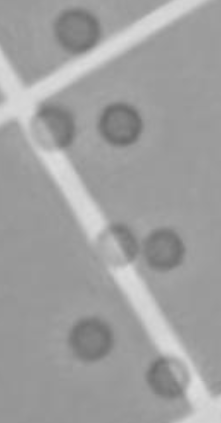cell: (87, 214, 141, 275), (89, 97, 148, 150), (138, 218, 192, 275), (61, 310, 116, 365), (49, 4, 106, 56), (25, 100, 79, 154), (141, 350, 194, 403)
